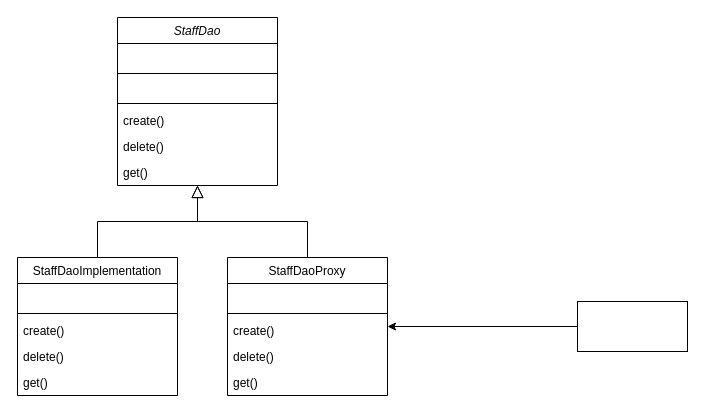
The diagram is 705 pixels wide and 416 high, and some of its shapes have lost their labels. The centre of each missing label's shape, as x and y in pixels:
Client: [632,326]
«interface»: [197,58]
